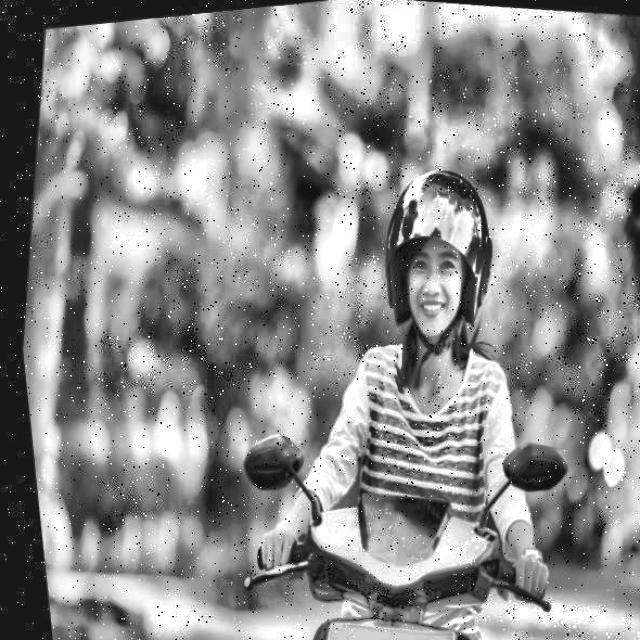Helmet: (352, 140, 515, 365)
